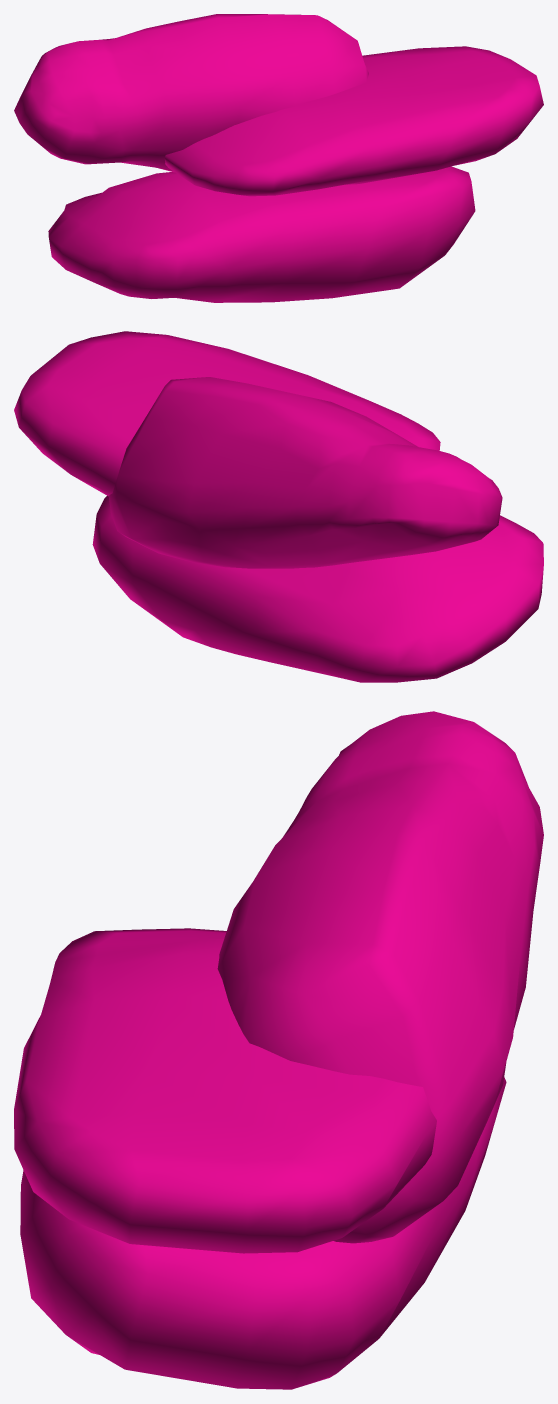
File: MegaRock_Details_02_Lod0.fbx
The picture shows the model from 3 angles, top to bottom: view 1: azimuth 30°, elevation 25°; view 2: azimuth 150°, elevation 25°; view 3: azimuth 270°, elevation 25°; orthographic projection. The views are drawn at different scales.
Visible parts, largest first — view 1: MegaRock_Details_02_Lod0; view 2: MegaRock_Details_02_Lod0; view 3: MegaRock_Details_02_Lod0.
Boxes of the visible parts, x1=… form: MegaRock_Details_02_Lod0: x1=14, y1=14, x2=543, y2=302; MegaRock_Details_02_Lod0: x1=14, y1=331, x2=543, y2=682; MegaRock_Details_02_Lod0: x1=14, y1=711, x2=543, y2=1389.
Bounding box in the file's own units: 5433 × 2851 × 2997.
